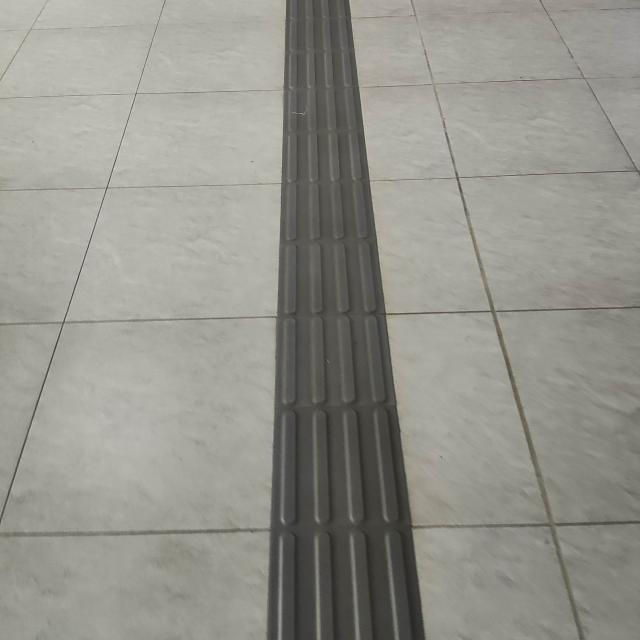lurus: (266, 0, 396, 640)
